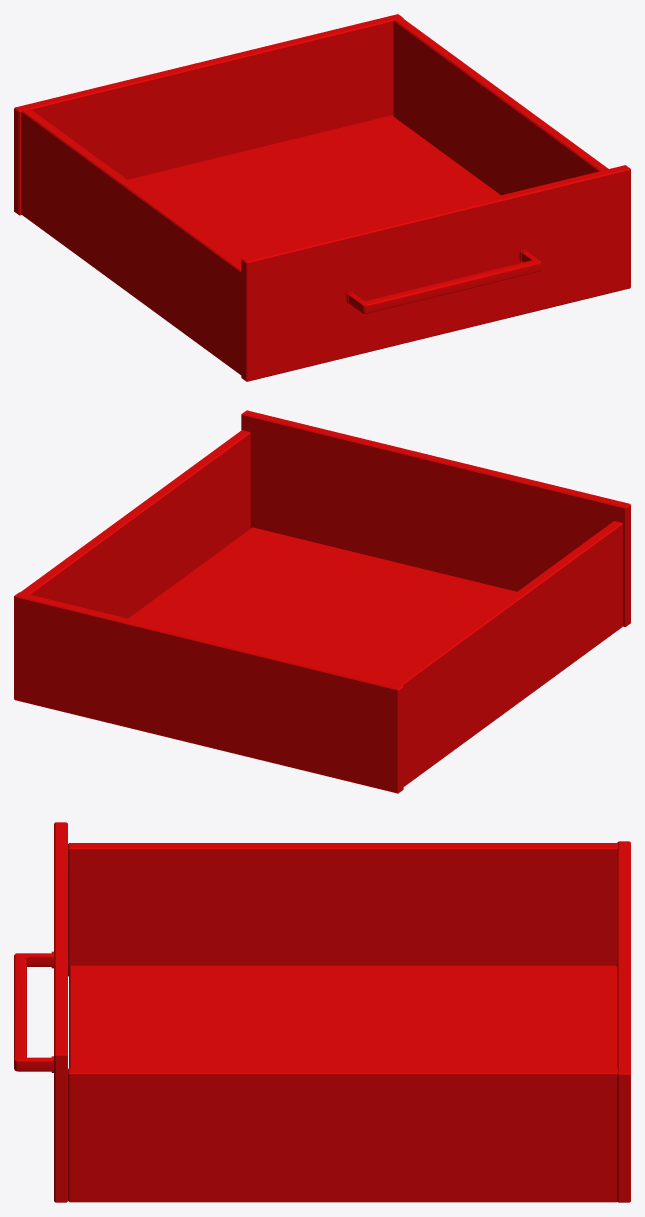
Rendered from Table_2_1.fbx.
The picture shows the model from 3 angles, top to bottom: view 1: azimuth 30°, elevation 25°; view 2: azimuth 150°, elevation 25°; view 3: azimuth 270°, elevation 25°; orthographic projection. The views are drawn at different scales.
Visible parts, largest first — view 1: L22:pCube223; view 2: L22:pCube223; view 3: L22:pCube223.
Part boxes in pixels (bbox=[...]): L22:pCube223: bbox=[14, 14, 630, 381]; L22:pCube223: bbox=[14, 410, 630, 793]; L22:pCube223: bbox=[14, 822, 630, 1202].
Bounding box in the file's own units: 60.61 × 18.07 × 67.92.
